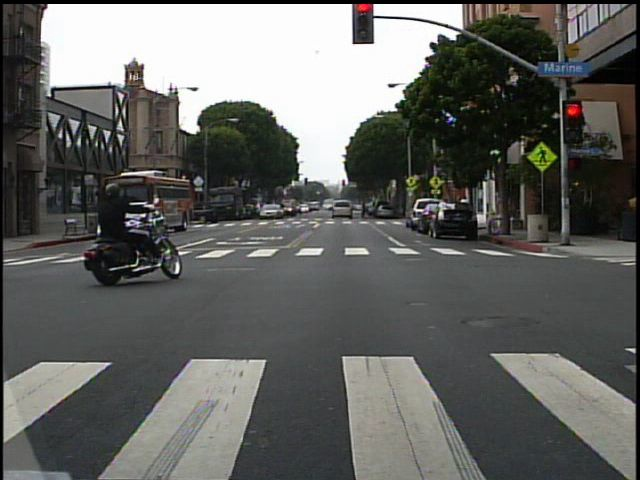person: (81, 174, 164, 284)
